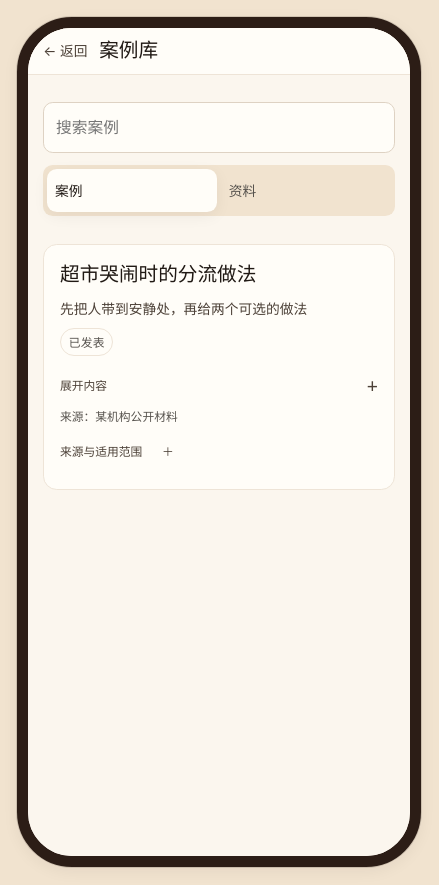
Scenario: 案例库浏览页 · 就地展开 › P1 卡片上的展开/收起提示随展开态切换（整卡可点的可读提示不得是死分支）
The width and height of the screenshot is (439, 885).
Check: the text "超市哭闹时的分流做法" is shown, box left=60, top=264, right=256, bottom=285
Check: the text "展开内容" is shown, box left=60, top=377, right=107, bottom=393
Click the button "超市哭闹时的分流做法 先把人带到安静处，再给两个可选的做法 已发表 展开内容 +". click: (158, 275)
box: left=60, top=260, right=378, bottom=400
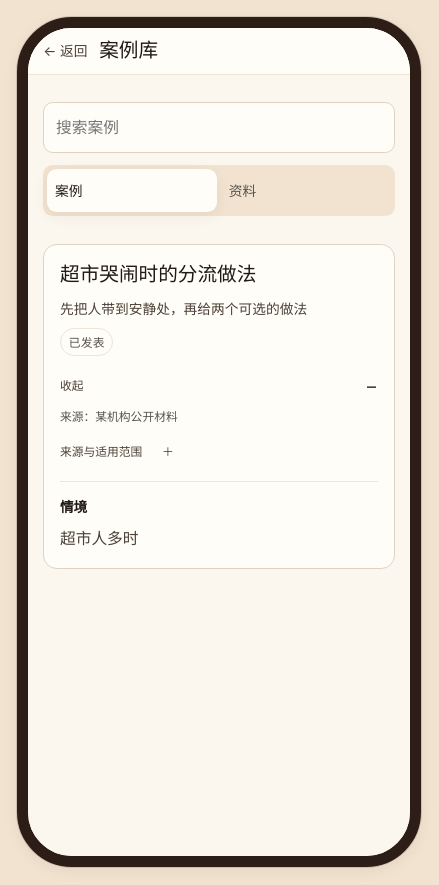
Check: the text "收起" is shown, box left=60, top=377, right=84, bottom=393
Check: the button "展开内容" is gone
